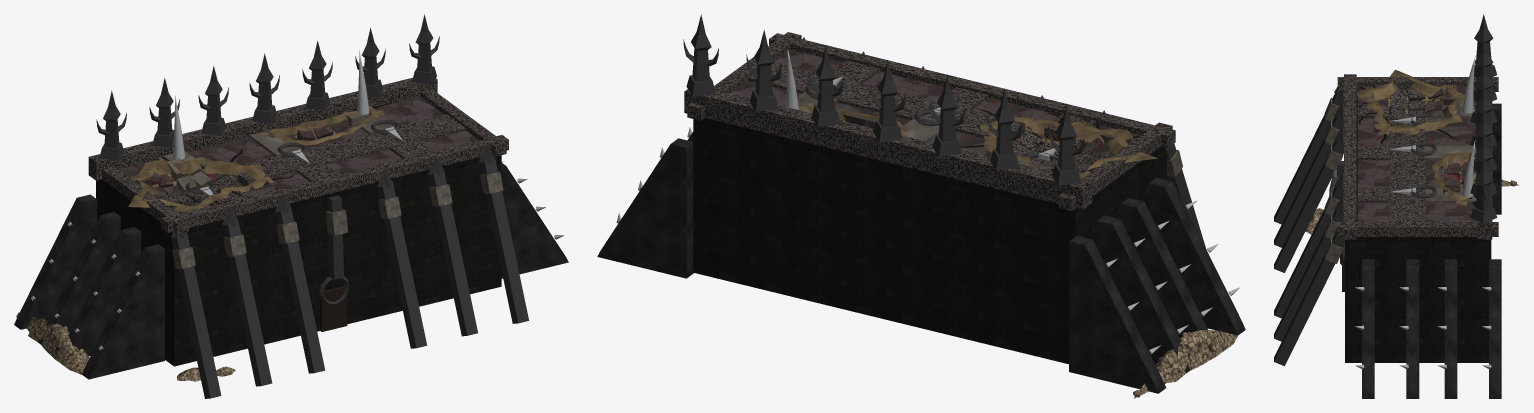
Rendered from Tarbuild02a.glb.
The picture shows the model from 3 angles, left to right: view 1: azimuth 30°, elevation 25°; view 2: azimuth 150°, elevation 25°; view 3: azimuth 270°, elevation 25°; orthographic projection. The views are drawn at different scales.
Visible parts, largest first — view 1: Tarbuild02a; view 2: Tarbuild02a; view 3: Tarbuild02a.
Boxes of the visible parts, x1,y1,x2,y2 form: Tarbuild02a: (14,14,568,398); Tarbuild02a: (597,14,1245,398); Tarbuild02a: (1274,14,1519,398).
Bounding box in the file's own units: 24.73 × 11.09 × 11.6.
Materials: 15 (8 with a texture image).
